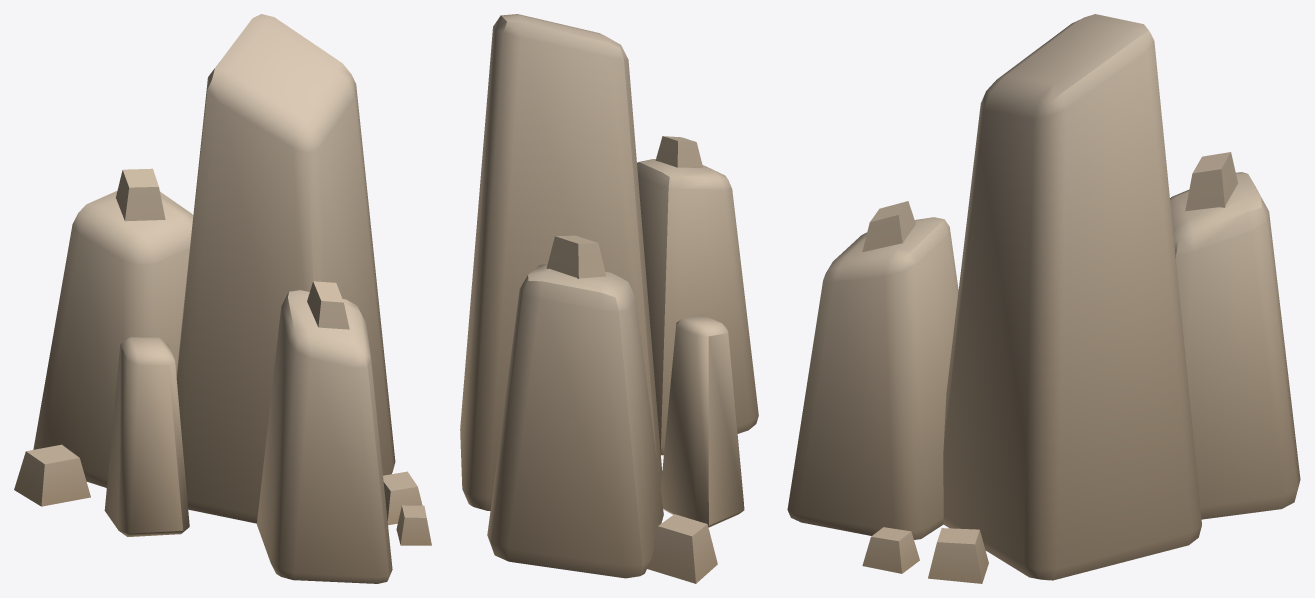
The model's file is Rock_4_E_Color7.fbx.
3 views of the same model, side by side, from view 1: azimuth 30°, elevation 25°; view 2: azimuth 150°, elevation 25°; view 3: azimuth 270°, elevation 25° (orthographic). The views are drawn at different scales.
Parts seen in each view (by area): view 1: Rock_4_E_Color7; view 2: Rock_4_E_Color7; view 3: Rock_4_E_Color7.
Boxes of the visible parts, x1=… form: Rock_4_E_Color7: x1=14, y1=14, x2=431, y2=583; Rock_4_E_Color7: x1=460, y1=14, x2=758, y2=583; Rock_4_E_Color7: x1=787, y1=14, x2=1300, y2=583.
Size of the model in its own units: 1.93 by 2.79 by 2.53.
